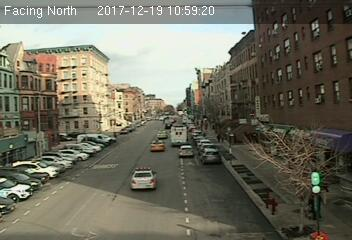car: (201, 148, 221, 163), (178, 143, 193, 156), (150, 140, 165, 152)
police: (129, 166, 157, 192)
truck: (170, 125, 188, 146)
